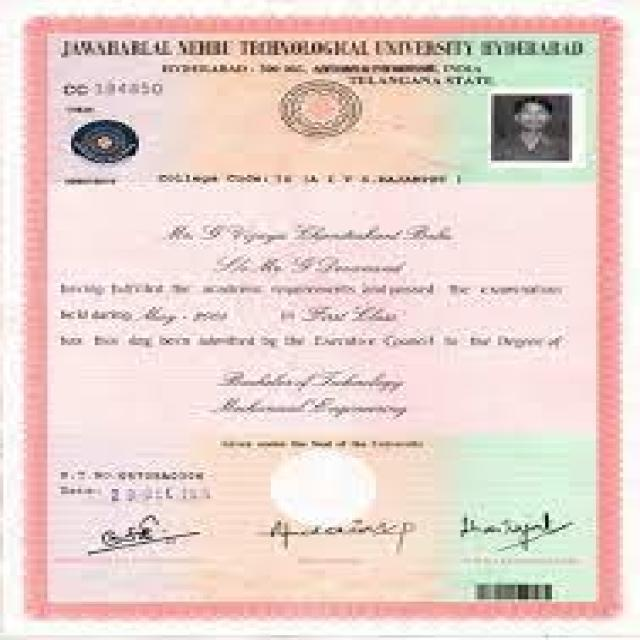degree: (276, 76, 367, 144)
signature: (74, 510, 264, 569), (267, 512, 425, 556), (461, 508, 589, 556)
